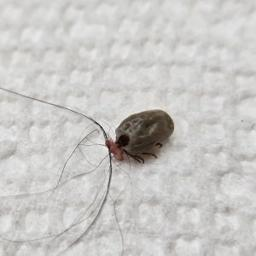Rhipicephalus sanguineus: (114, 110, 174, 164)
